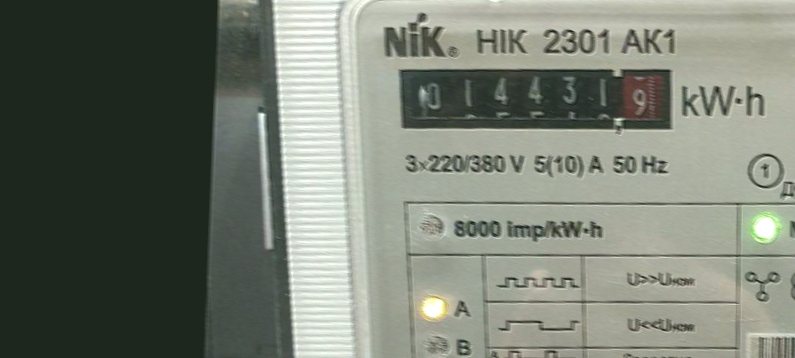0: (423, 77, 444, 111)
1: (459, 74, 479, 107), (596, 74, 611, 107)
3: (559, 73, 580, 106)
4: (490, 72, 513, 106), (525, 70, 545, 105)
9: (630, 84, 648, 115)
screen: (389, 49, 687, 147)
